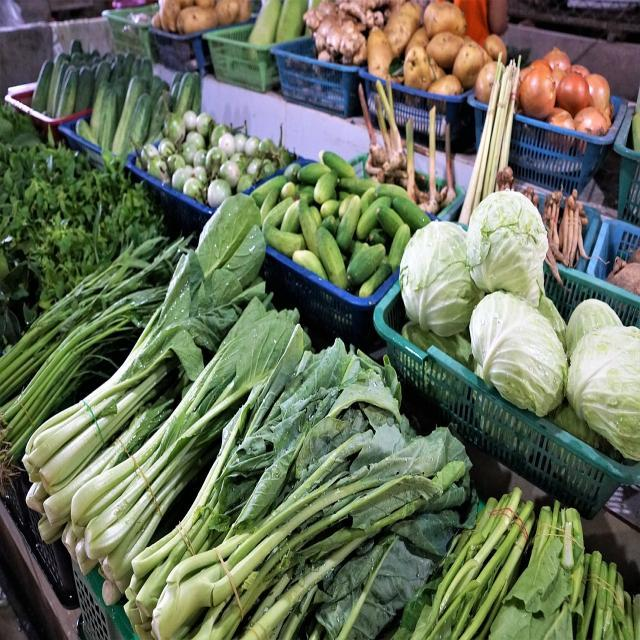cabbage: (473, 286, 567, 416), (567, 327, 640, 461), (403, 218, 479, 340), (469, 200, 552, 311)
cucumber: (320, 226, 348, 298), (297, 195, 323, 259), (322, 151, 358, 183), (379, 205, 409, 239)
onion: (522, 64, 560, 122), (555, 69, 598, 111), (574, 104, 614, 141)
potato: (369, 24, 397, 81), (427, 4, 467, 42), (403, 49, 434, 98), (453, 45, 487, 89), (425, 26, 463, 62)
